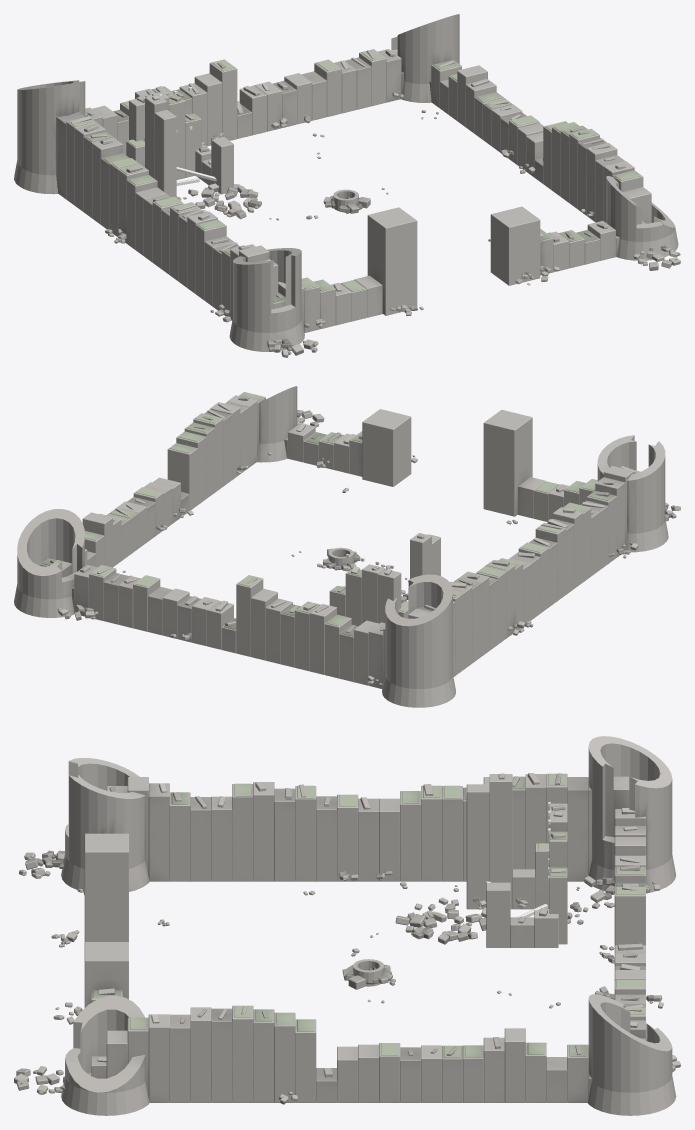
File: castle_ruin.glb
3 renders of one model, top to bottom at view 1: azimuth 30°, elevation 25°; view 2: azimuth 150°, elevation 25°; view 3: azimuth 270°, elevation 25°, orthographic. The views are drawn at different scales.
Parts seen in each view (by area): view 1: beam_socket; view 2: beam_socket; view 3: beam_socket.
Boxes of the visible parts, x1=… form: beam_socket: x1=14, y1=14, x2=680, y2=357; beam_socket: x1=14, y1=386, x2=680, y2=707; beam_socket: x1=14, y1=736, x2=680, y2=1115.
Bounding box in the file's own units: 47 × 11.04 × 50.96.
